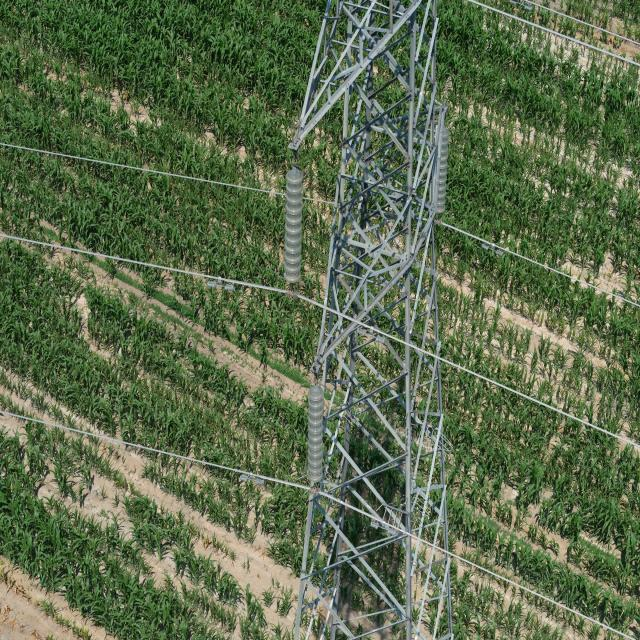direk: (272, 0, 466, 625)
